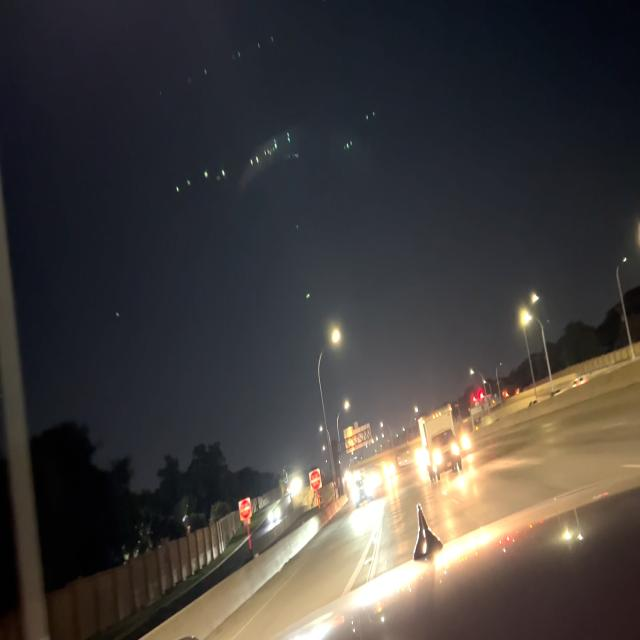back-of-sign: (344, 421, 372, 454)
